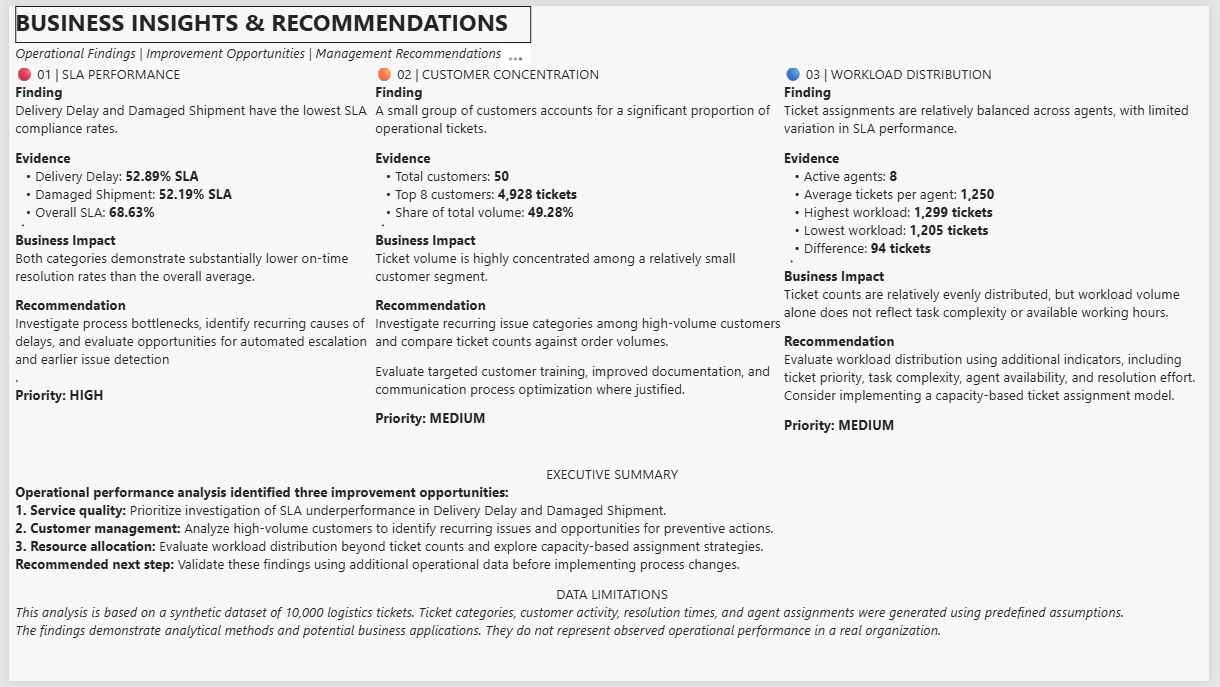

What the dashboard file says about the page in this screenshot:
{"tool":"powerbi","page":{"name":"04 | Business Insights","canvas":[1920,1080],"ordinal":3},"visuals":[{"type":"textbox","box":[10,0,825,60],"z":0},{"type":"textbox","box":[10,60,825,32.5],"z":1000},{"type":"textbox","box":[10,93.3,576.7,640],"z":2000},{"type":"textbox","box":[586.7,93.3,653.3,640],"z":3000},{"type":"textbox","box":[1240,93.3,680,603.3],"z":4000},{"type":"textbox","box":[10,733.3,1910,346.7],"z":5000}]}

Visuals, with their boxes in screenshot pixels (x1, y1, x2, y2), scaled from the page's 1920x1080 canvas onto the 1220x687 screenshot:
textbox: <region>6, 0, 531, 38</region>
textbox: <region>6, 38, 531, 59</region>
textbox: <region>6, 59, 373, 466</region>
textbox: <region>373, 59, 788, 466</region>
textbox: <region>788, 59, 1219, 443</region>
textbox: <region>6, 466, 1219, 686</region>
